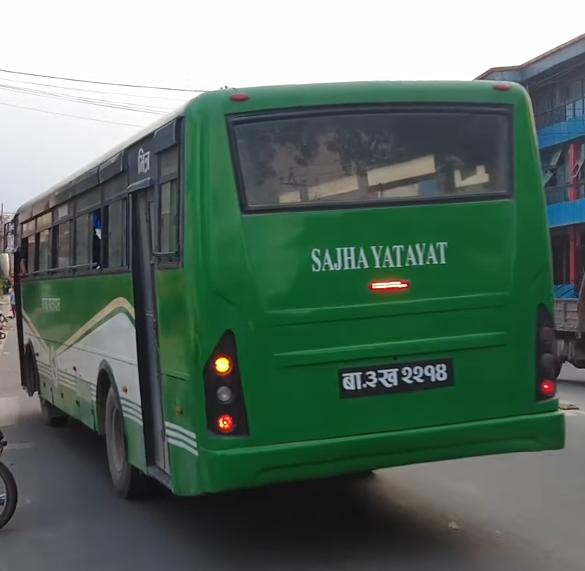bus: (14, 86, 574, 489)
